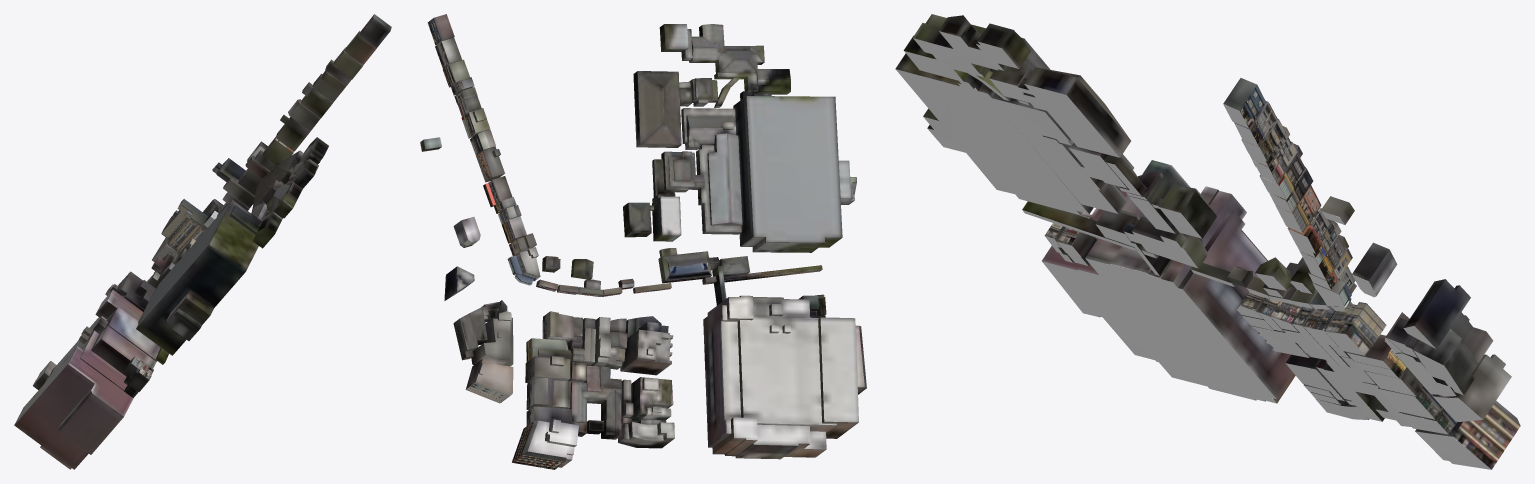
3 renders of one model, left to right at view 1: azimuth 30°, elevation 25°; view 2: azimuth 150°, elevation 25°; view 3: azimuth 270°, elevation 25°, orthographic. The views are drawn at different scales.
Bounding box in the file's own units: 160 × 139 × 145.
15 materials, 13 textured.
